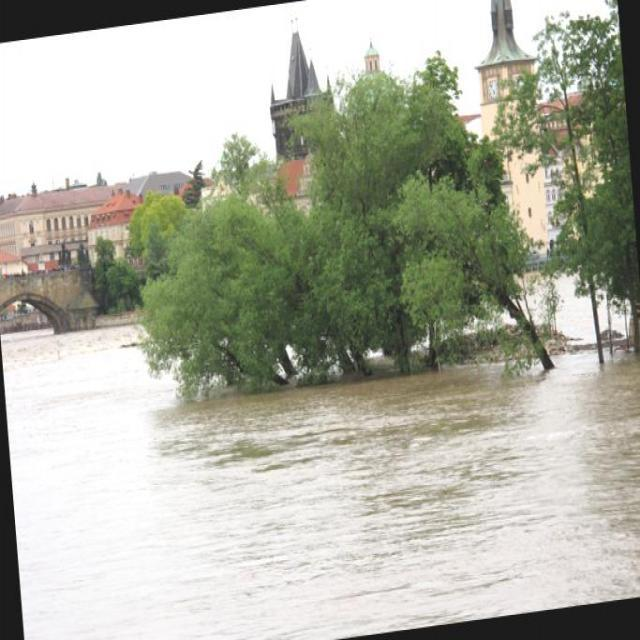flood: (0, 236, 639, 639)
